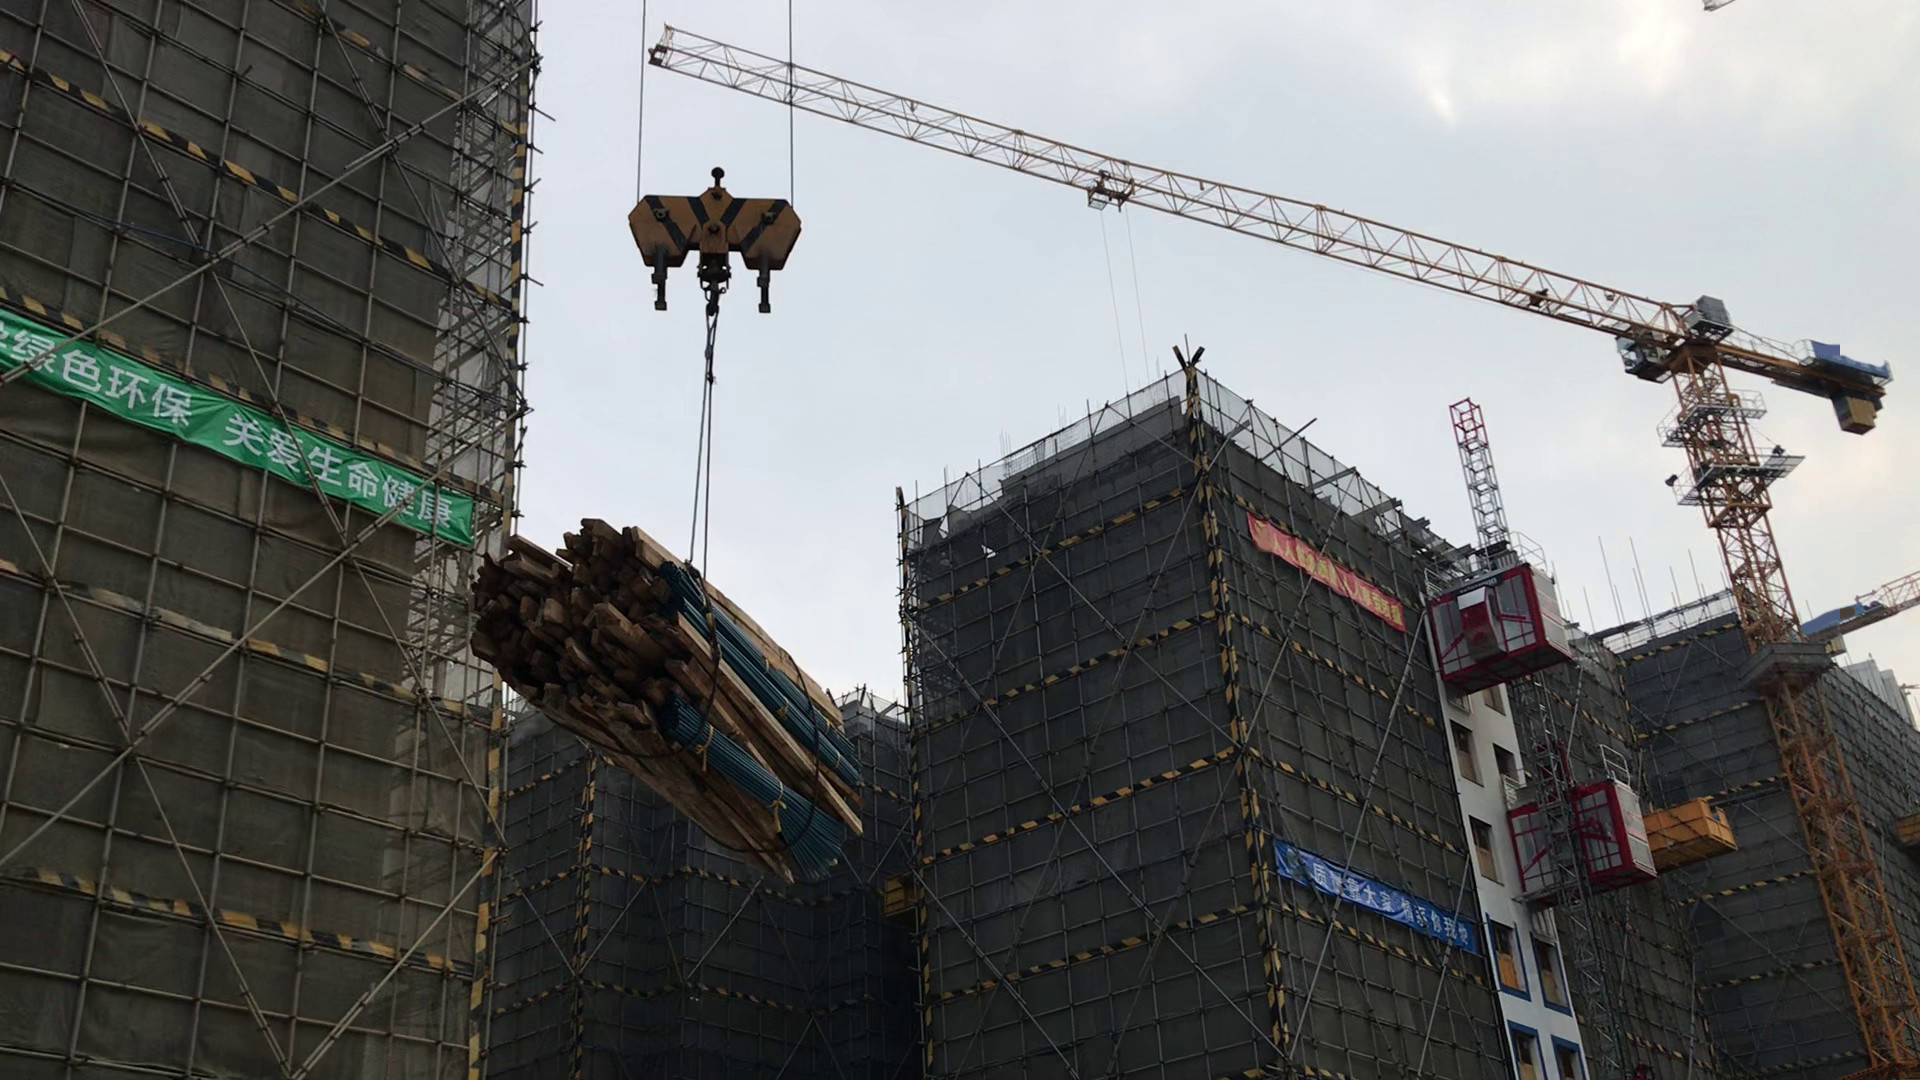hook: (603, 154, 823, 353)
slogan: (1, 295, 473, 553), (1263, 843, 1487, 965), (1237, 516, 1414, 646)
wood: (463, 509, 894, 920)
